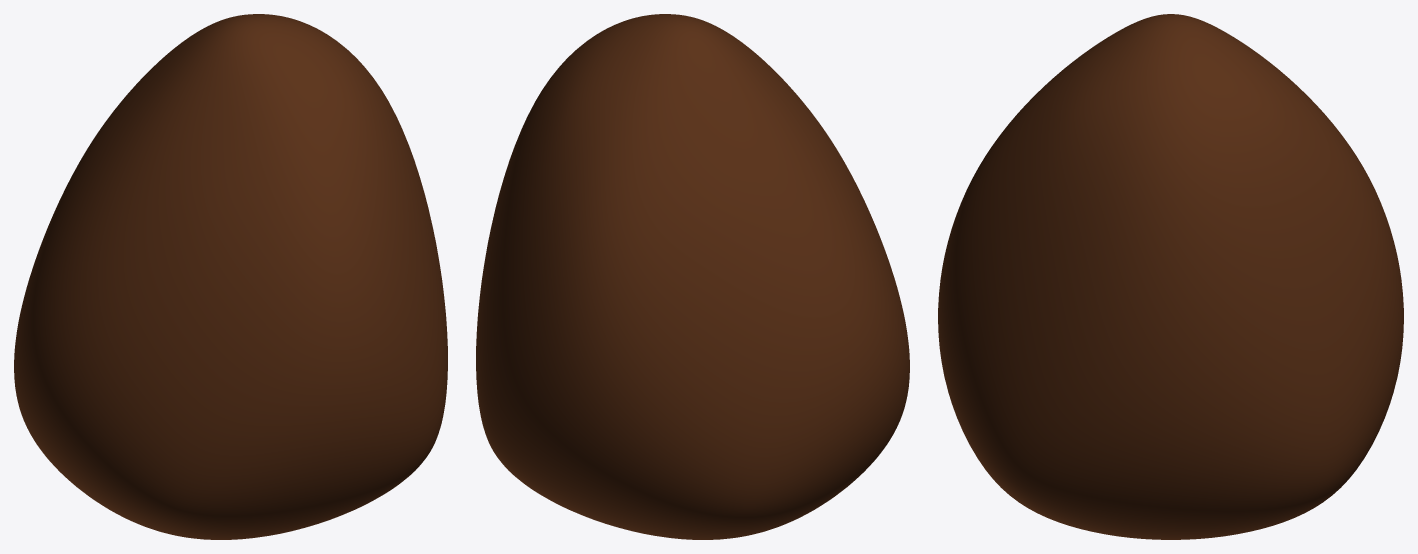
Rendered from Pedra_Quadrada01.fbx.
3 views of the same model, side by side, from view 1: azimuth 30°, elevation 25°; view 2: azimuth 150°, elevation 25°; view 3: azimuth 270°, elevation 25° (orthographic). The views are drawn at different scales.
Visible parts, largest first — view 1: Cube; view 2: Cube; view 3: Cube.
Part boxes in pixels (<box>): Cube: <box>14,14,447,539</box>; Cube: <box>476,14,909,539</box>; Cube: <box>938,14,1403,539</box>.
Size of the model in its own units: 157 by 193 by 162.
